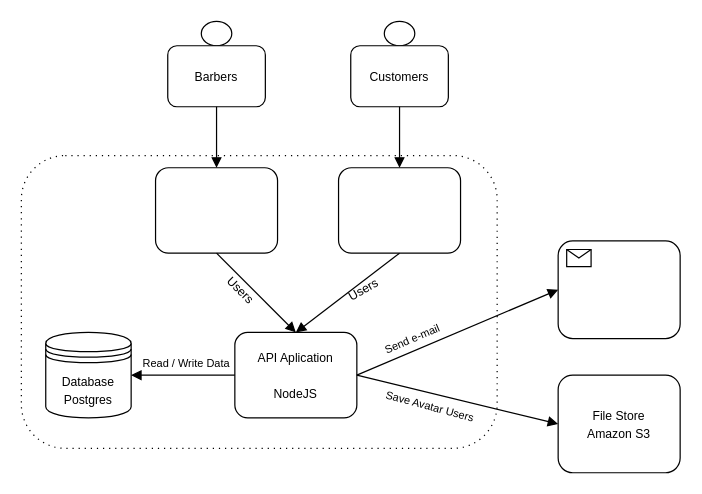
The diagram is 702 pixels wide and 494 high, and some of its shapes have lost their labels. Here are the shapes that lost their labels. From the top down, the centre of each, then its label:
At pixel 216 210: "Single-Page Application ReactJS".
At pixel 399 210: "Mobile App React Native".
At pixel 618 289: "E-mail Service Amazon SES".
